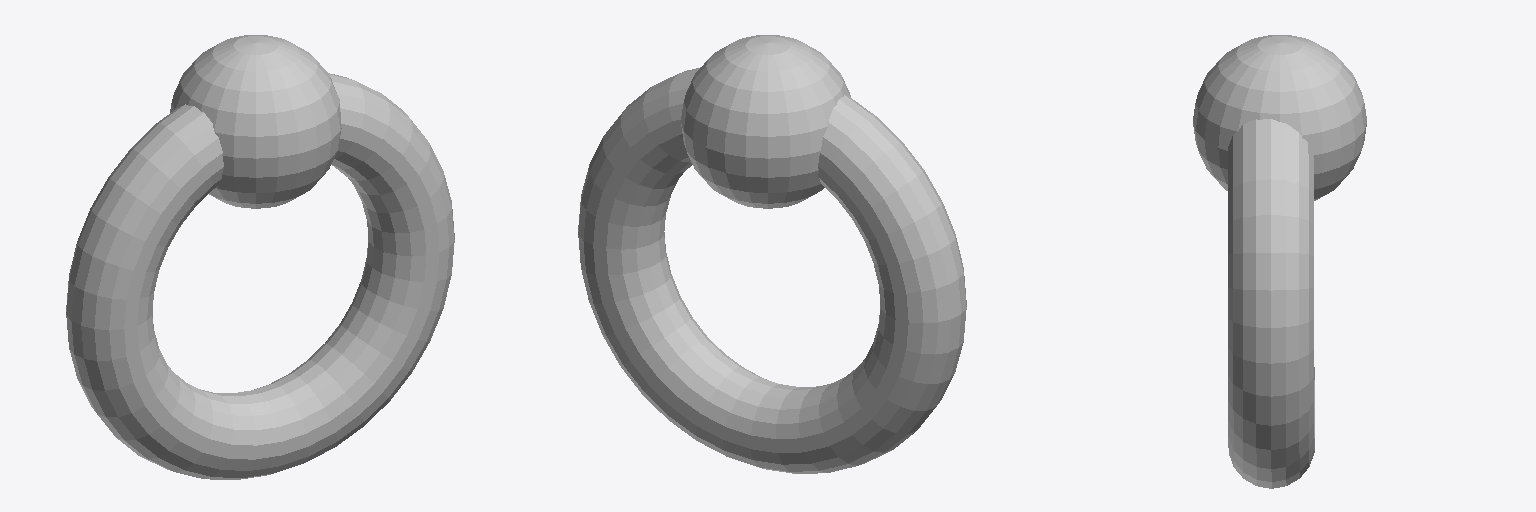
Rendered from ring.obj.
3 views of the same model, side by side, from view 1: azimuth 30°, elevation 25°; view 2: azimuth 150°, elevation 25°; view 3: azimuth 270°, elevation 25° (orthographic).
Visible parts, largest first — view 1: Torus, Sphere; view 2: Torus, Sphere; view 3: Torus, Sphere.
Boxes of the visible parts, x1=… form: Torus: x1=66, y1=73, x2=454, y2=479; Sphere: x1=170, y1=35, x2=341, y2=208; Torus: x1=578, y1=67, x2=966, y2=473; Sphere: x1=681, y1=35, x2=850, y2=208; Torus: x1=1228, y1=119, x2=1314, y2=488; Sphere: x1=1193, y1=35, x2=1366, y2=200.
Size of the model in its own units: 500 by 539 by 200.